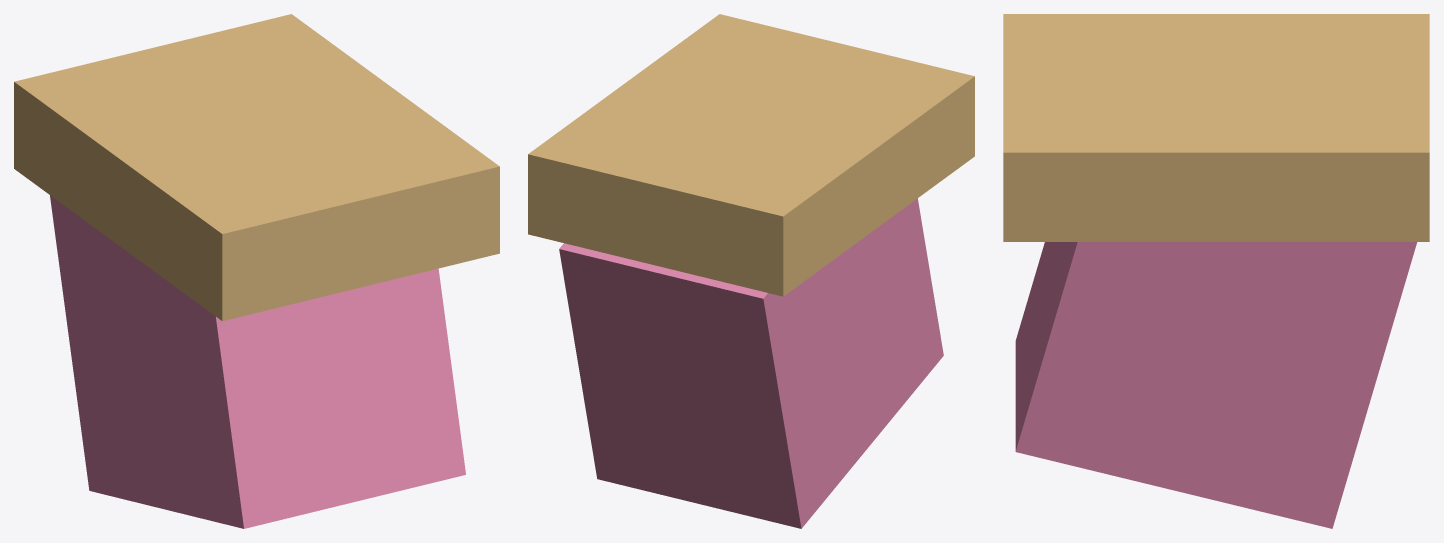
The model's file is Handstop.obj.
3 views of the same model, side by side, from view 1: azimuth 30°, elevation 25°; view 2: azimuth 150°, elevation 25°; view 3: azimuth 270°, elevation 25° (orthographic). The views are drawn at different scales.
Visible parts, largest first — view 1: Handstop_Detail, Handstop_Body; view 2: Handstop_Detail, Handstop_Body; view 3: Handstop_Detail, Handstop_Body.
Part boxes in pixels (x1,y1,x2,y2): Handstop_Detail: (14,14,499,321); Handstop_Body: (50,195,465,528); Handstop_Detail: (528,14,974,296); Handstop_Body: (559,198,943,528); Handstop_Detail: (1003,14,1429,241); Handstop_Body: (1015,242,1417,528).
Size of the model in its own units: 0.1 by 0.1312 by 0.13.
